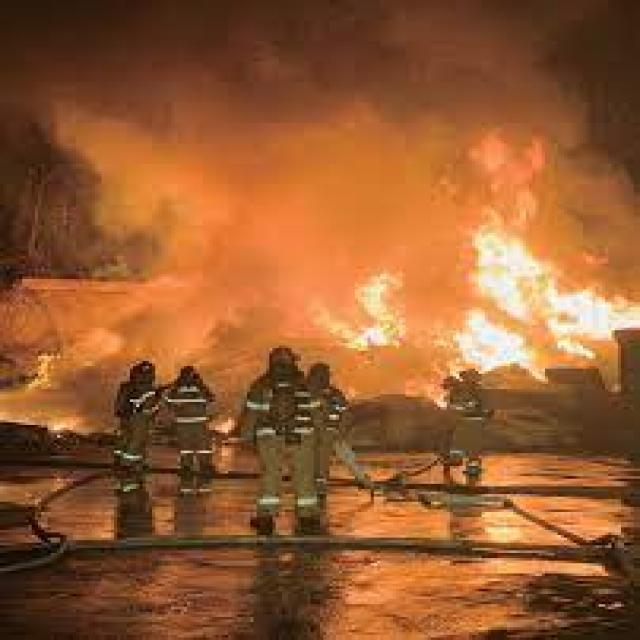Fire: (488, 268, 610, 366), (354, 292, 412, 345)
Smoke: (140, 107, 433, 256), (463, 31, 640, 242)
